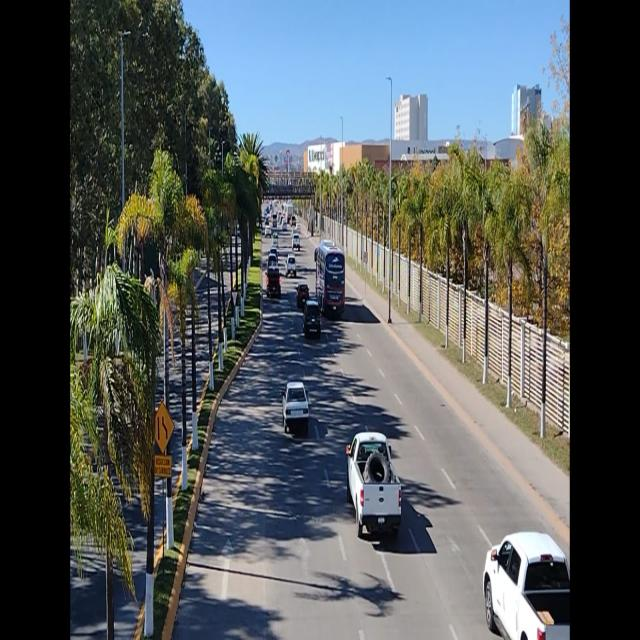Auto: (482, 532, 570, 640), (348, 428, 403, 534), (313, 240, 348, 314), (280, 383, 312, 430), (302, 304, 320, 341), (266, 266, 282, 303)
